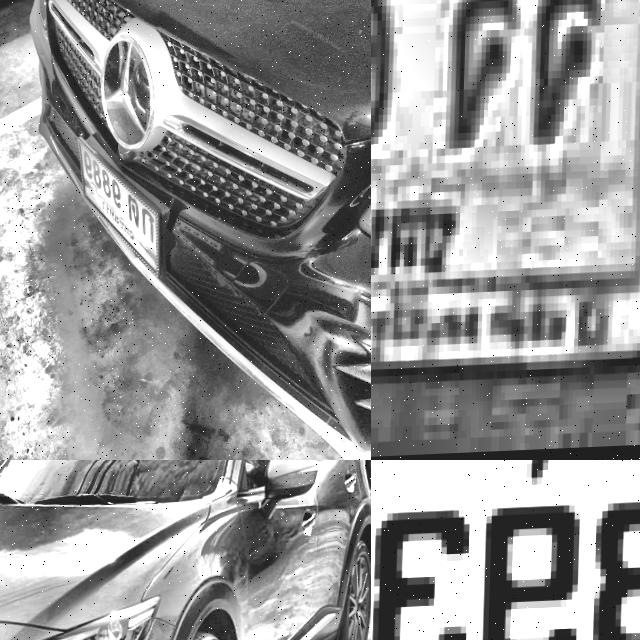license-plate: (371, 0, 640, 404), (371, 460, 640, 640), (77, 133, 167, 287)
